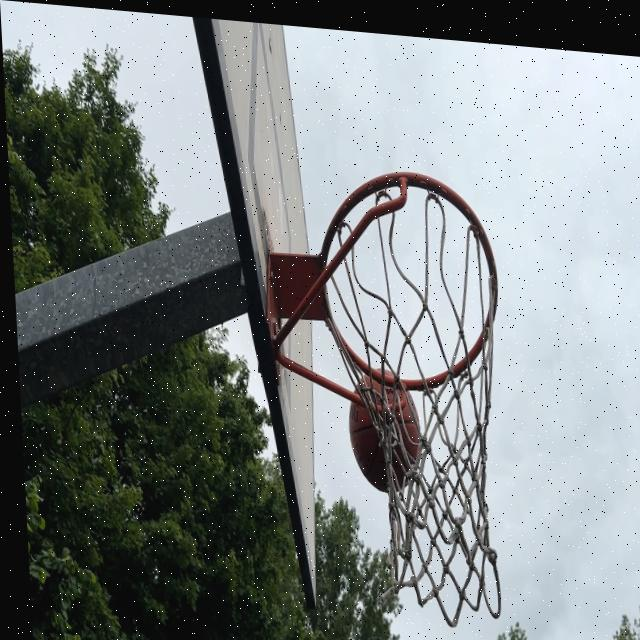Basketball: (346, 366, 426, 494)
